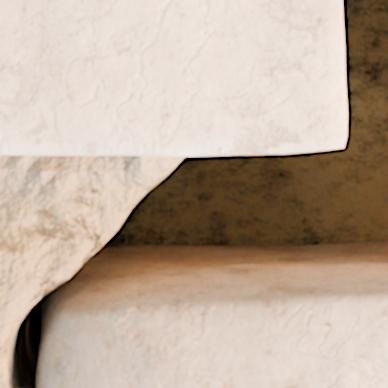brick: (0, 0, 345, 155), (47, 287, 387, 387)
crack: (1, 0, 387, 387)
